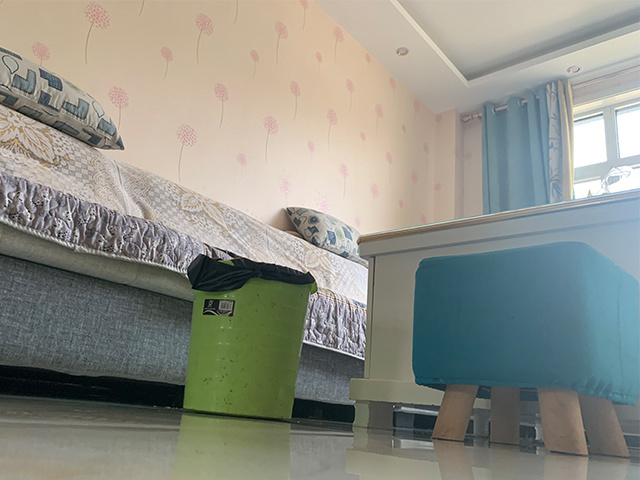sofa: (1, 111, 357, 423)
stool: (411, 239, 640, 459)
table: (347, 187, 640, 437)
trashcan: (182, 251, 319, 423)
